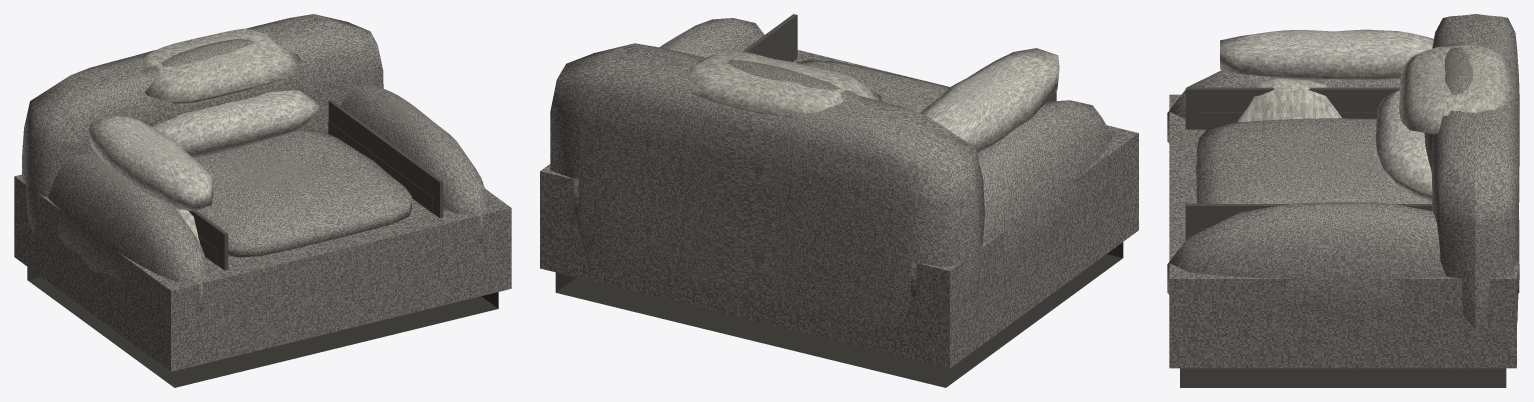
Rendered from armchair5.glb.
3 views of the same model, side by side, from view 1: azimuth 30°, elevation 25°; view 2: azimuth 150°, elevation 25°; view 3: azimuth 270°, elevation 25° (orthographic). The views are drawn at different scales.
Parts seen in each view (by area): view 1: root; view 2: root; view 3: root.
Part boxes in pixels (x1,y1,x2,y2): root: [14, 14, 511, 387]; root: [540, 14, 1138, 387]; root: [1167, 14, 1519, 387].
Size of the model in its own units: 1.54 by 0.8853 by 1.22.
Materials: 8 (6 with a texture image).
